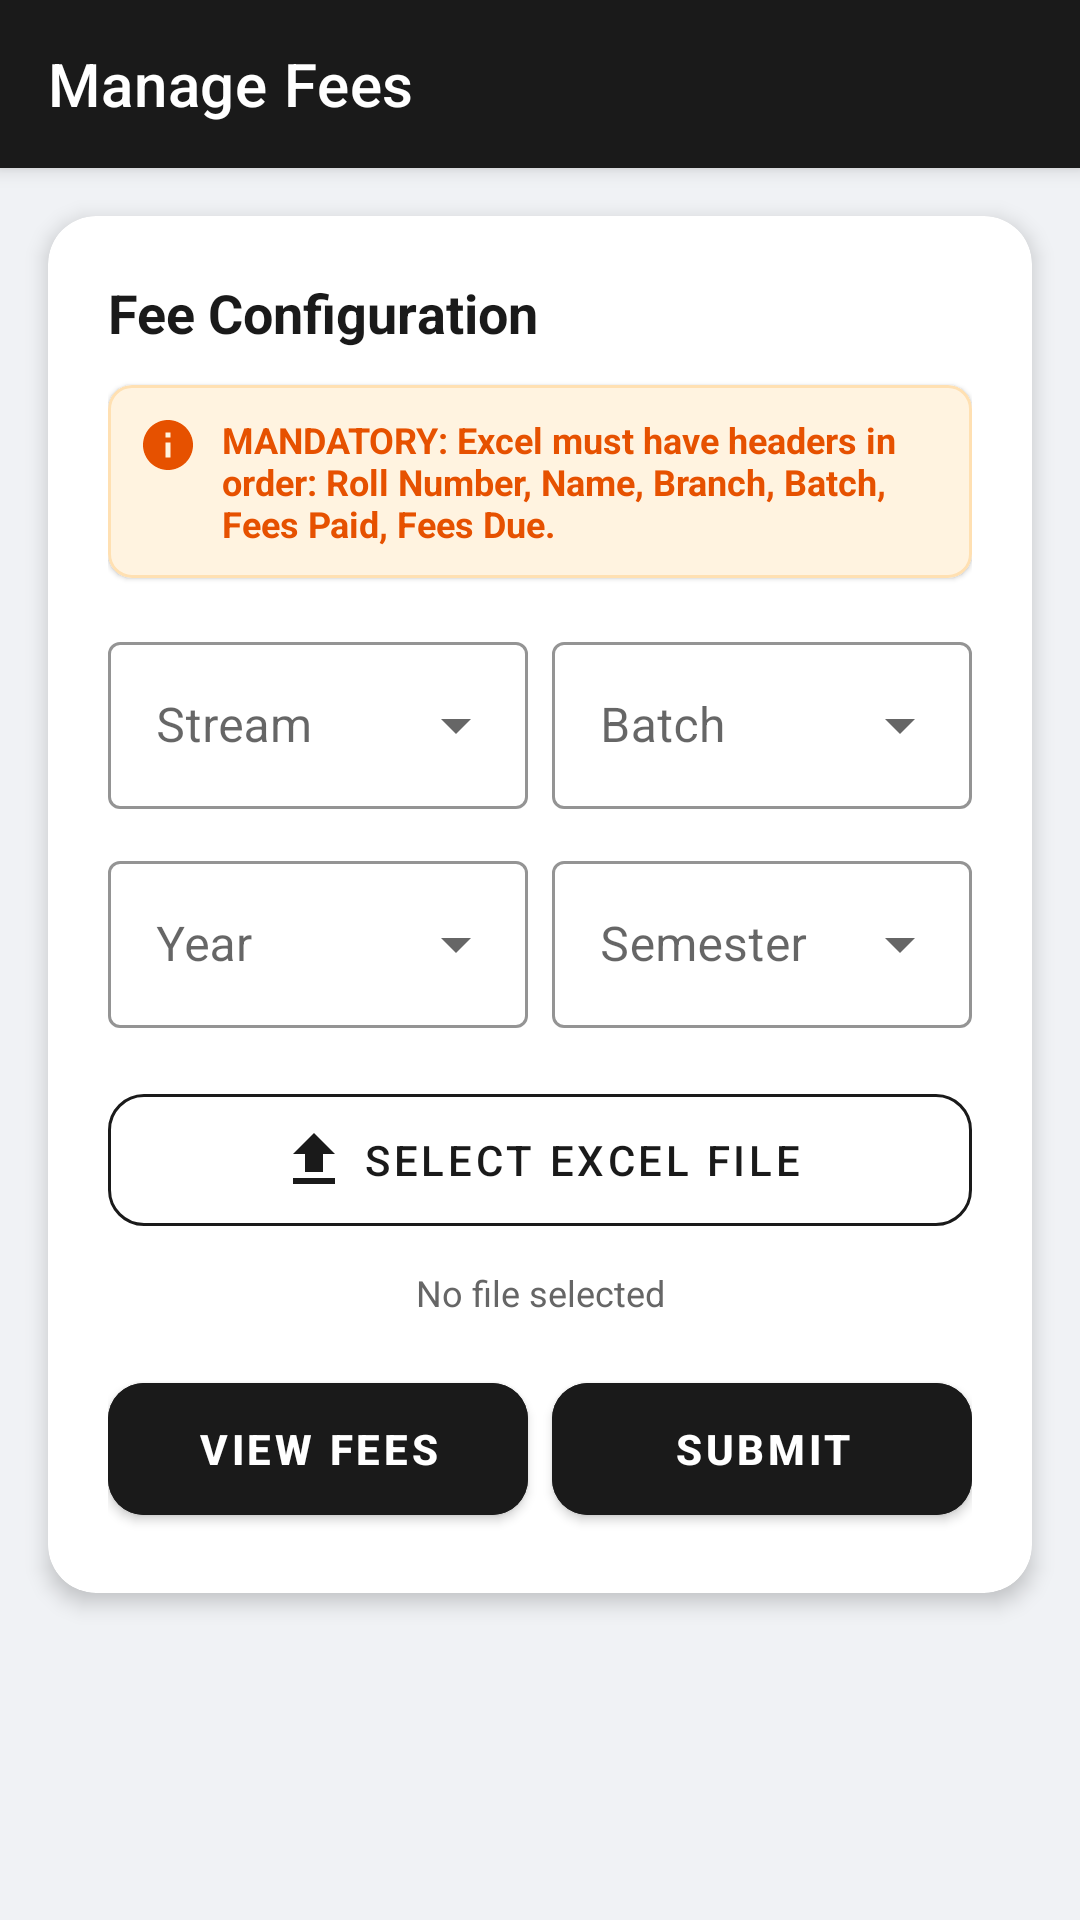

Icon bounding boxes for this 1080 x 1920 phone screenshot, format (x1, y1, x2, y2):
info: (143, 420, 193, 470)
